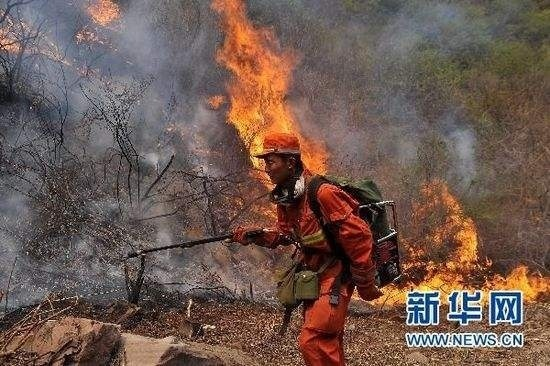fire: (376, 180, 548, 317), (207, 0, 329, 180), (0, 0, 82, 74), (76, 1, 124, 39)
